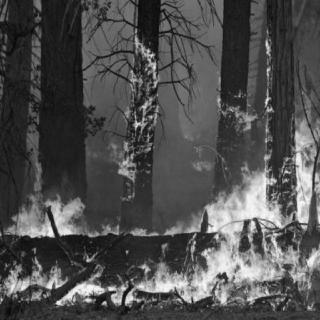Fire: (183, 28, 316, 308), (112, 28, 162, 196)
